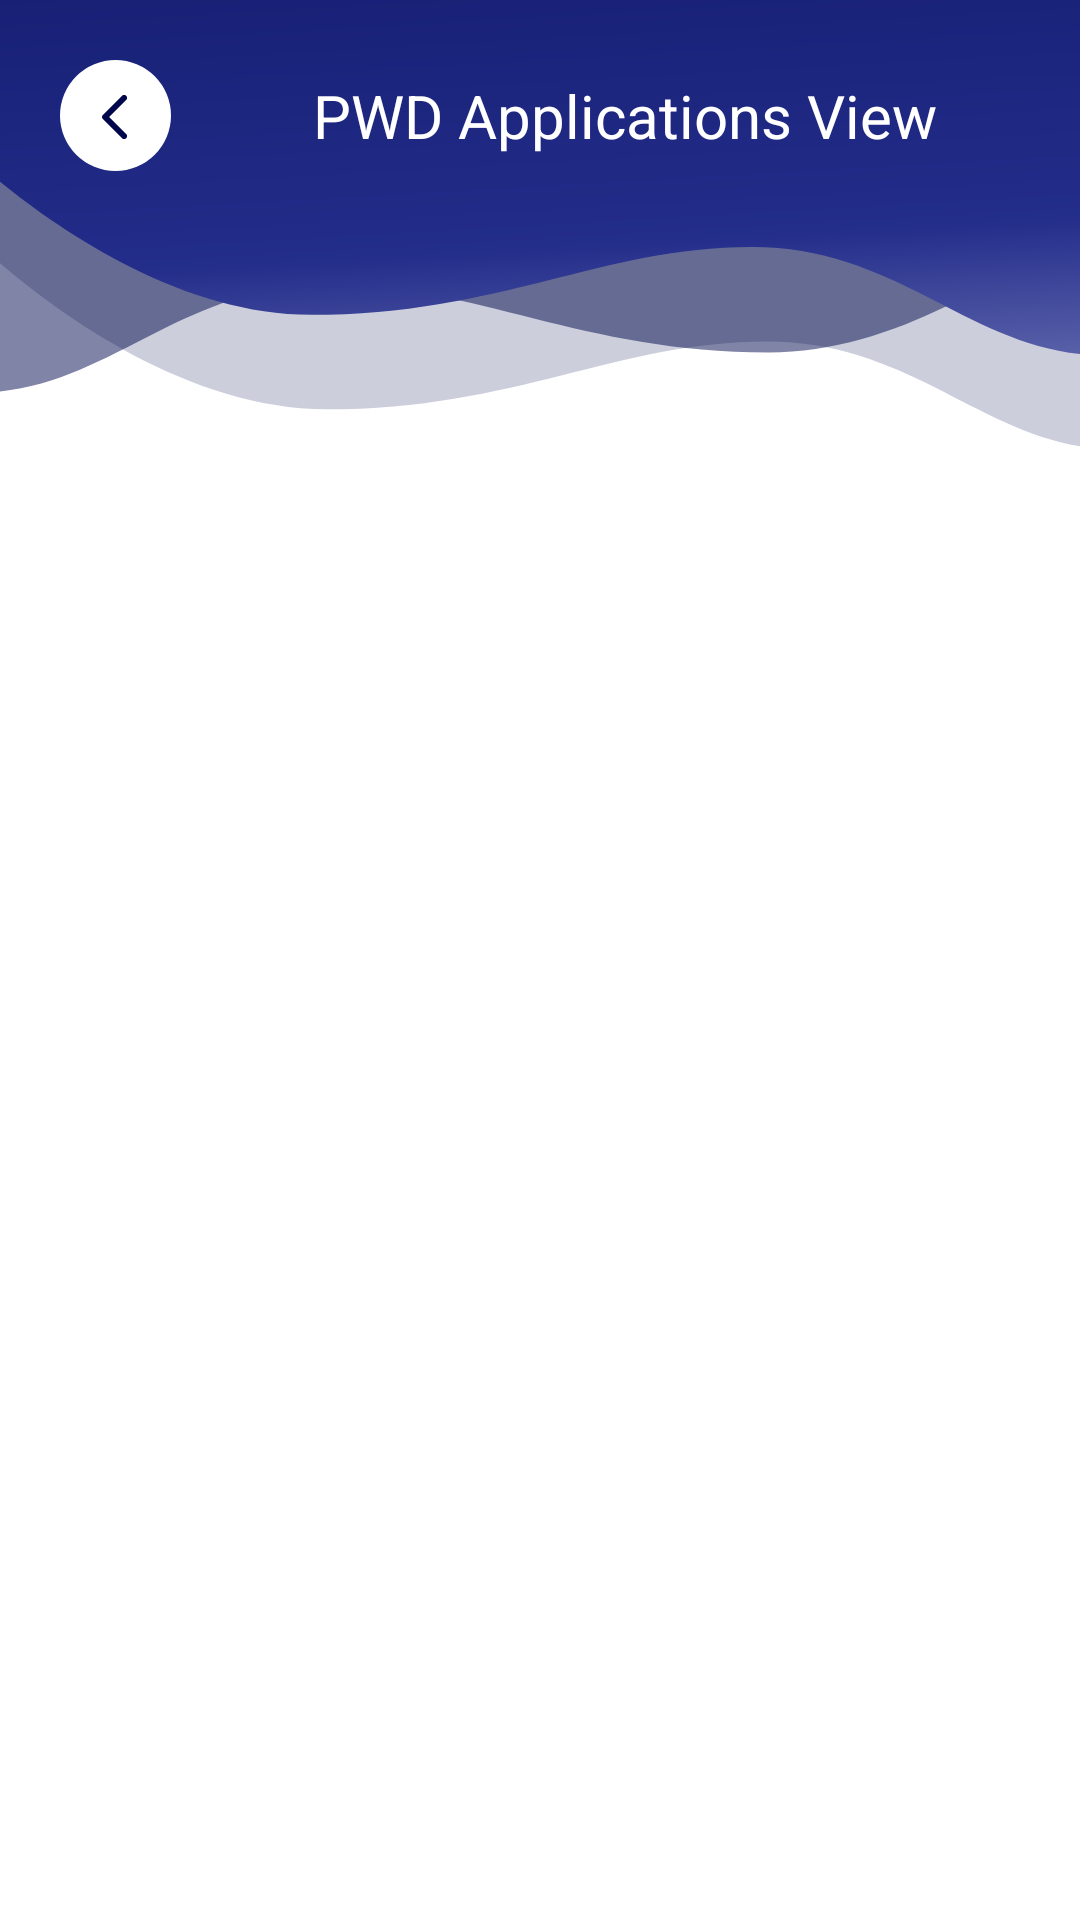

Icons on this 1080w x 1920h Android screen, each with the point to tap as point (x, y):
back: point (115, 115)
